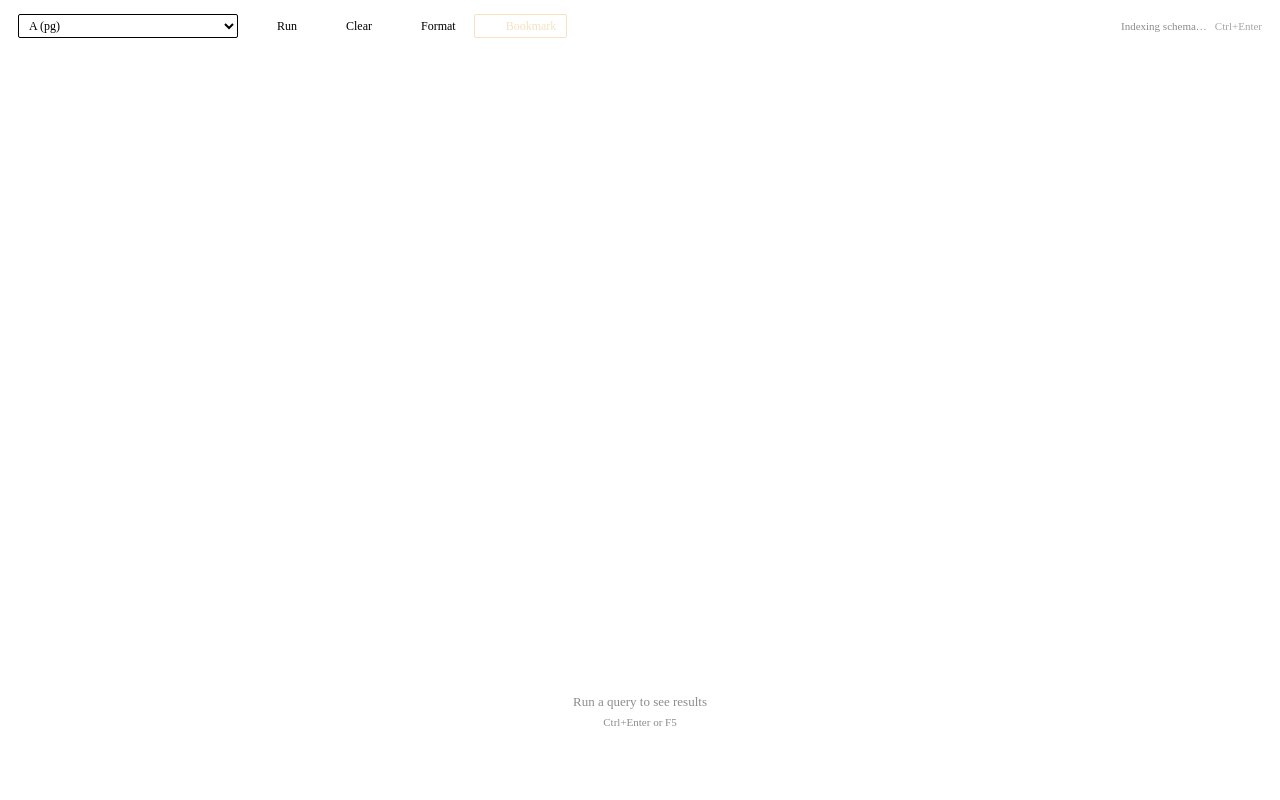
Test case: QueryView › resets an initially saved bookmark when switching connections
Select "B (pg)" in the dropdown named "Active connection" at (128, 26), box [18, 14, 238, 38]
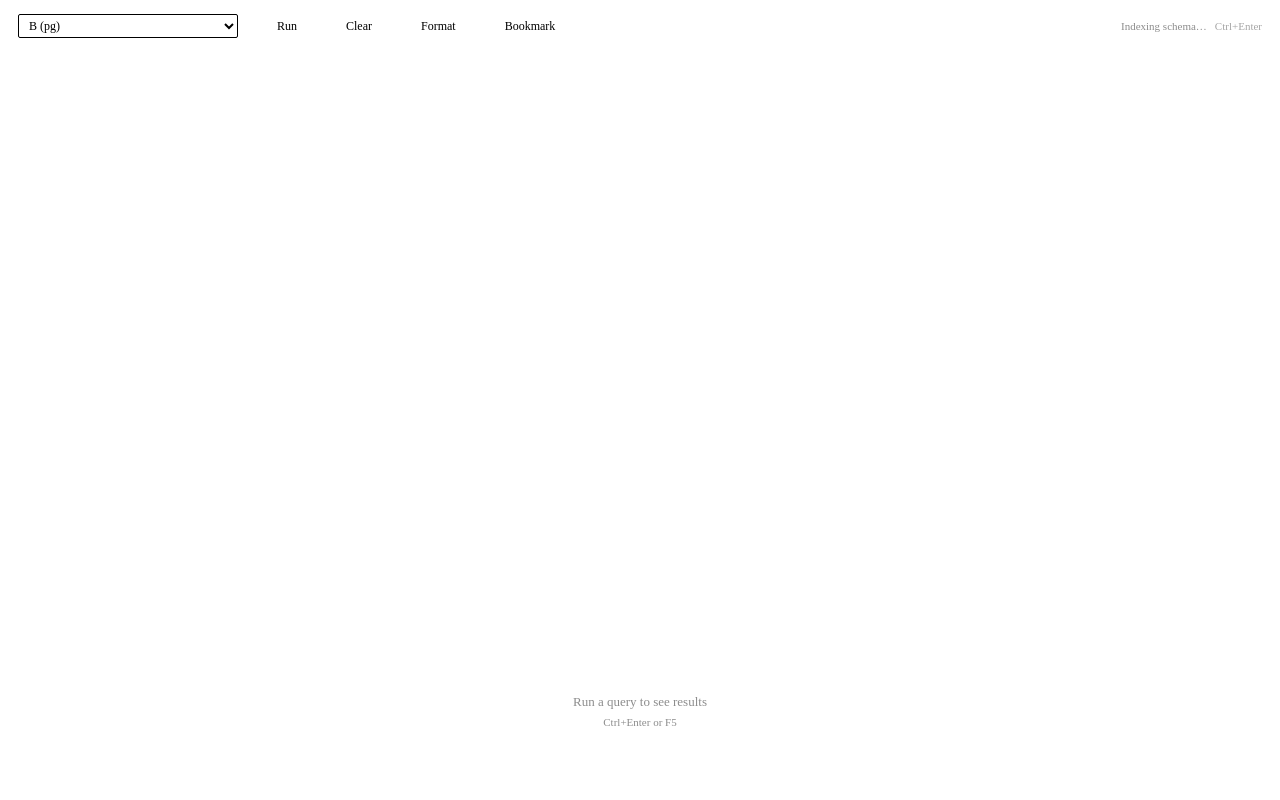
Now the button "Bookmark" is enabled, box [474, 14, 565, 38]
